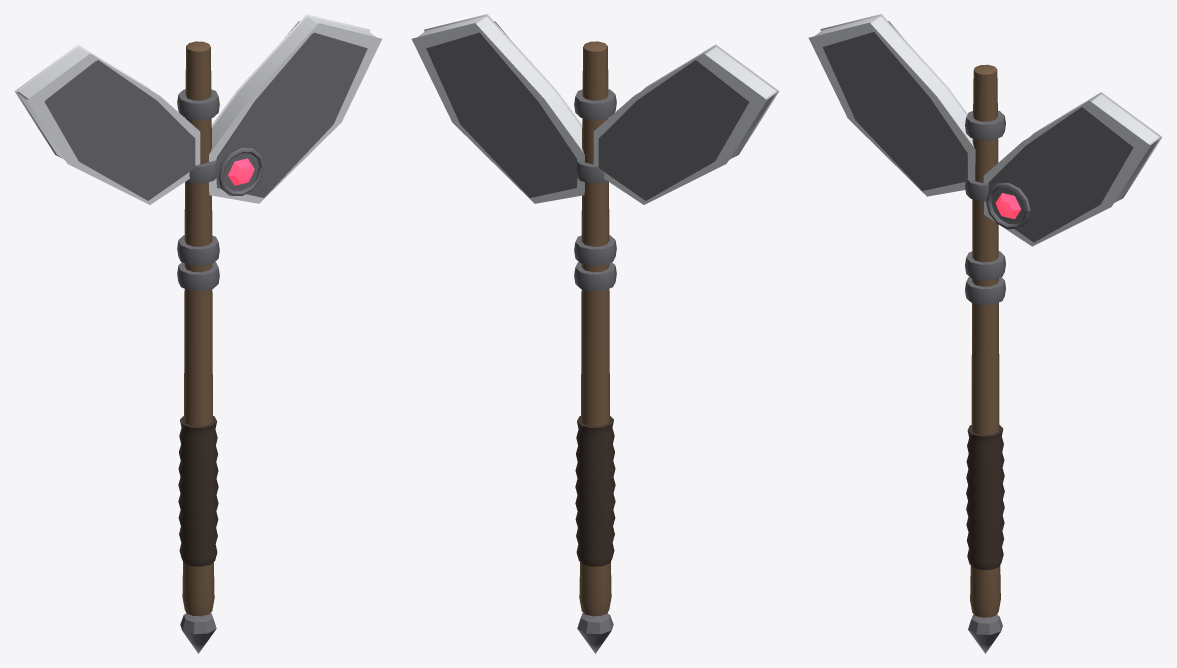
The model's file is artisan_twin_petal_axe.glb.
3 renders of one model, left to right at view 1: azimuth 30°, elevation 25°; view 2: azimuth 150°, elevation 25°; view 3: azimuth 330°, elevation 25°, orthographic. The views are drawn at different scales.
Parts seen in each view (by area): view 1: artisan_twin_petal_axe; view 2: artisan_twin_petal_axe; view 3: artisan_twin_petal_axe.
Part boxes in pixels (x1=…): artisan_twin_petal_axe: x1=14, y1=14, x2=382, y2=653; artisan_twin_petal_axe: x1=411, y1=14, x2=779, y2=653; artisan_twin_petal_axe: x1=808, y1=14, x2=1162, y2=653.
Bounding box in the file's own units: 0.5876 × 0.9989 × 0.0702.
